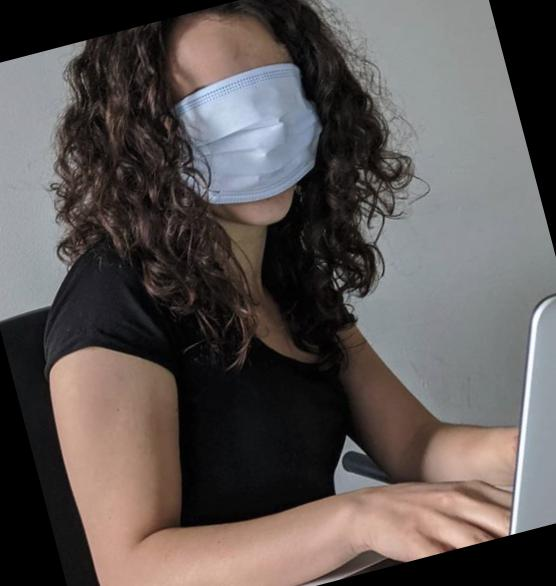mask_weared_incorrect: (166, 33, 354, 243)
